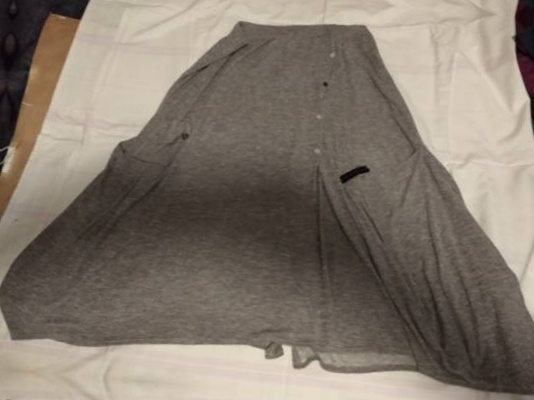Dress: (0, 0, 534, 398), (0, 385, 516, 400), (30, 0, 534, 2), (0, 0, 2, 352)
